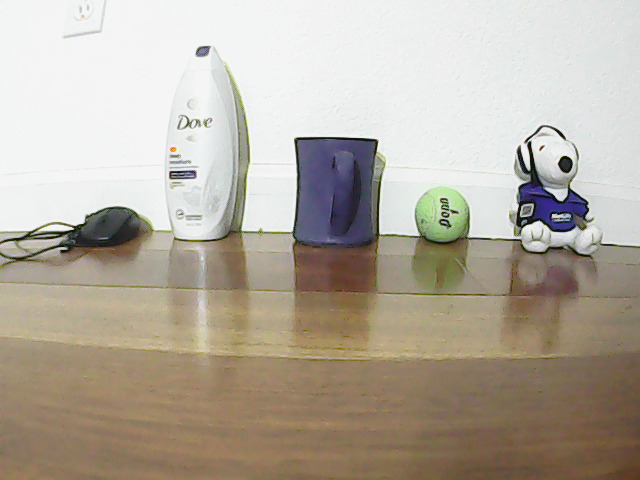ball: (415, 184, 474, 246)
mouse: (88, 201, 137, 250)
mug: (288, 127, 385, 250)
snoopy: (510, 119, 606, 261)
soap: (165, 40, 241, 245)
